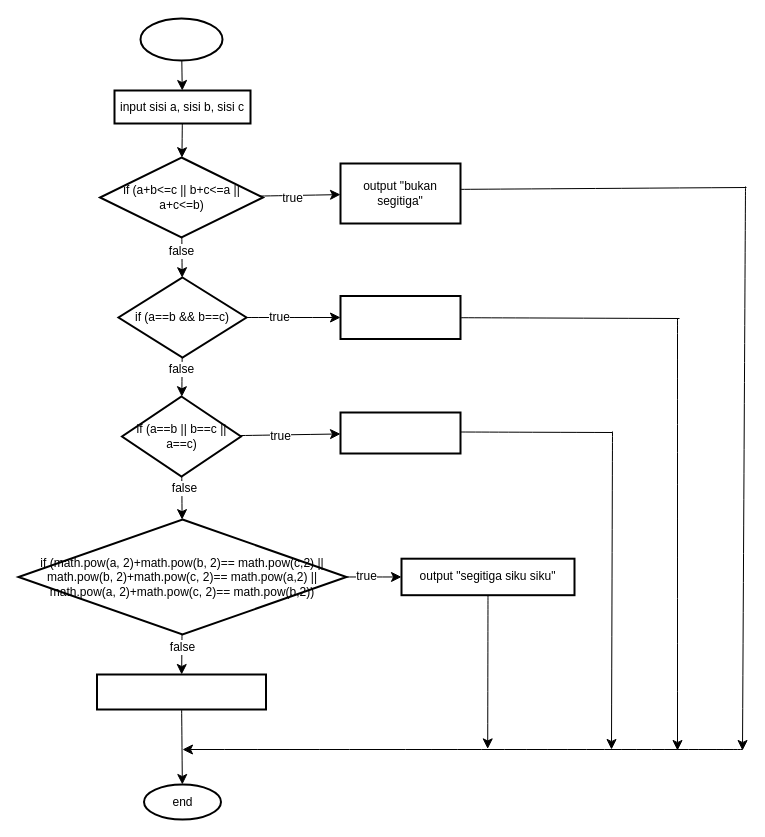
Image size: 765x837. Some labels were removed from this diagram. Here are the shapes that lost their labels. From the top down, the centre of each, then its label:
[181,39]: start
[400,317]: output "segitiga sama sisi"
[400,432]: output "segitiga sama kaki"
[181,691]: output "segitiga sembarang"
